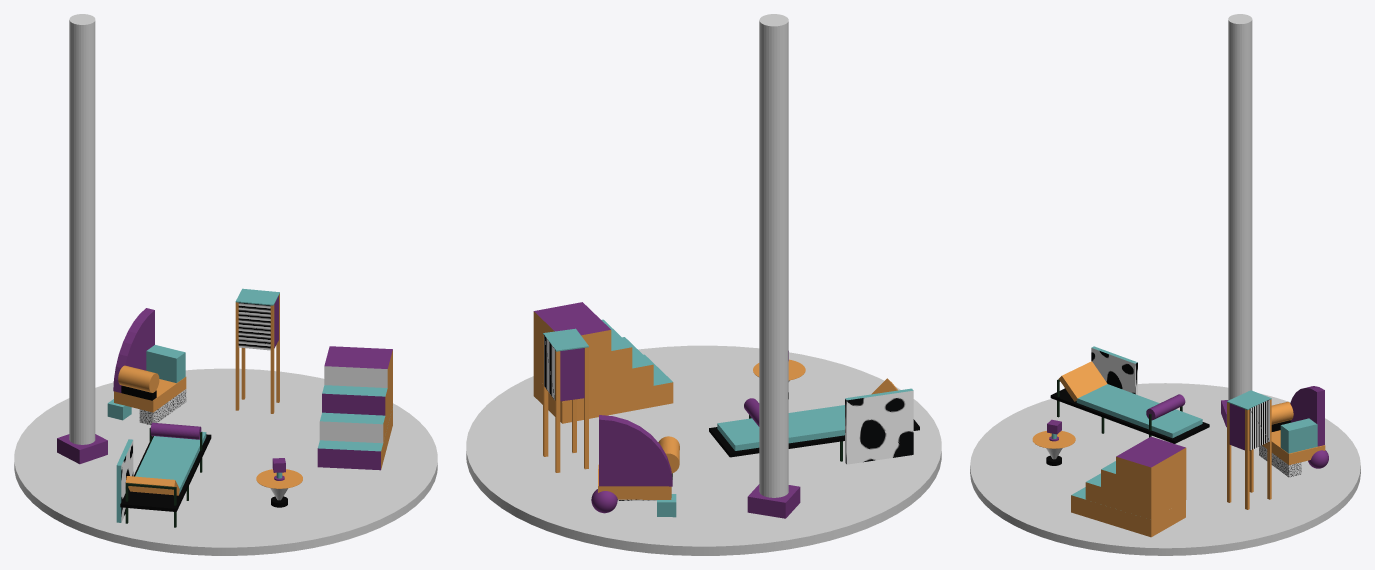
File: STANZA 3.gltf
3 views of the same model, side by side, from view 1: azimuth 30°, elevation 25°; view 2: azimuth 150°, elevation 25°; view 3: azimuth 270°, elevation 25° (orthographic). The views are drawn at different scales.
Parts seen in each view (by area): view 1: Cylinder, Cylinder.111, Cube.111, Cube.006, Cube.109, Cube.046, Cube.110, Cube.101, Cube.141, Cube.004, Cube.002, Cube.086 (+9 smaller); view 2: Cylinder, Cylinder.111, Cube.016, Cube.101, Cube.046, Cube.006, Cube.111, Cube.109, Cube.110, Cube.150, Cube.102, Cube.086 (+5 smaller); view 3: Cylinder, Cylinder.111, Cube.006, Cube.111, Cube.046, Cube.109, Cube.110, Cube.016, Cube.101, Cube.002, Cube.007, Cube.004 (+8 smaller).
Boxes of the visible parts, bbox=[...] form: Cylinder: bbox=[14, 368, 437, 555]; Cylinder.111: bbox=[69, 14, 95, 444]; Cube.111: bbox=[324, 346, 392, 387]; Cube.006: bbox=[135, 431, 206, 494]; Cube.109: bbox=[319, 388, 392, 443]; Cube.046: bbox=[317, 407, 392, 470]; Cube.110: bbox=[322, 369, 392, 415]; Cube.101: bbox=[113, 308, 154, 393]; Cube.141: bbox=[238, 302, 270, 350]; Cube.004: bbox=[120, 434, 211, 511]; Cube.002: bbox=[146, 345, 185, 383]; Cube.086: bbox=[114, 377, 186, 412]; Cylinder: bbox=[466, 345, 941, 555]; Cylinder.111: bbox=[759, 14, 788, 497]; Cube.016: bbox=[845, 388, 913, 464]; Cube.101: bbox=[599, 415, 672, 486]; Cube.046: bbox=[533, 354, 673, 423]; Cube.006: bbox=[717, 405, 844, 450]; Cube.111: bbox=[533, 302, 611, 354]; Cube.109: bbox=[533, 337, 653, 402]; Cube.110: bbox=[533, 319, 632, 376]; Cube.150: bbox=[560, 348, 584, 401]; Cube.102: bbox=[747, 484, 800, 518]; Cube.086: bbox=[598, 464, 671, 499]; Cylinder: bbox=[970, 383, 1360, 555]; Cylinder.111: bbox=[1228, 14, 1252, 400]; Cube.006: bbox=[1076, 384, 1202, 438]; Cube.111: bbox=[1116, 436, 1186, 484]; Cube.046: bbox=[1071, 487, 1185, 537]; Cube.109: bbox=[1085, 473, 1186, 519]; Cube.110: bbox=[1101, 461, 1186, 502]; Cube.016: bbox=[1091, 346, 1137, 394]; Cube.101: bbox=[1290, 386, 1324, 446]; Cube.002: bbox=[1280, 418, 1317, 453]; Cube.007: bbox=[1059, 361, 1107, 401]; Cube.004: bbox=[1050, 388, 1209, 443].
Bounding box in the file's own units: 4.37 × 5.04 × 4.37.
11 materials, 4 textured.
